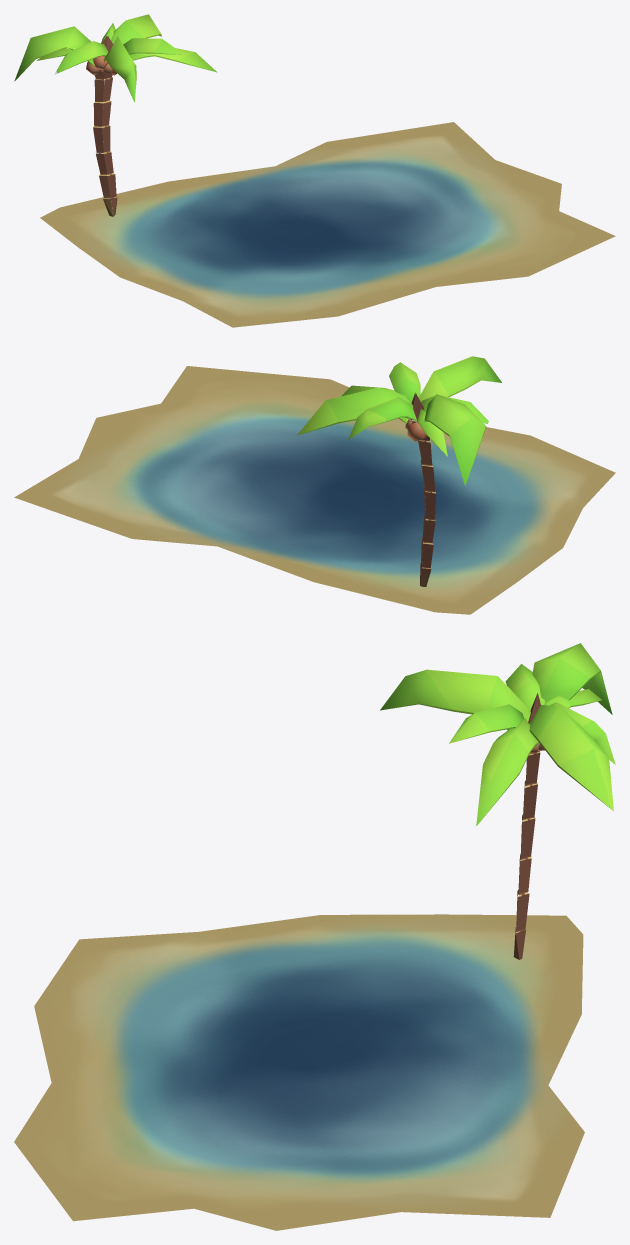
Rendered from Oasis.FBX.
The picture shows the model from 3 angles, top to bottom: view 1: azimuth 30°, elevation 25°; view 2: azimuth 150°, elevation 25°; view 3: azimuth 270°, elevation 25°; orthographic projection. The views are drawn at different scales.
Parts seen in each view (by area): view 1: Box001; view 2: Box001; view 3: Box001.
Part boxes in pixels (<box>): Box001: <box>14,14,615,327</box>; Box001: <box>14,356,615,614</box>; Box001: <box>14,643,615,1230</box>.
Size of the model in its own units: 97.26 by 76.57 by 39.46.
